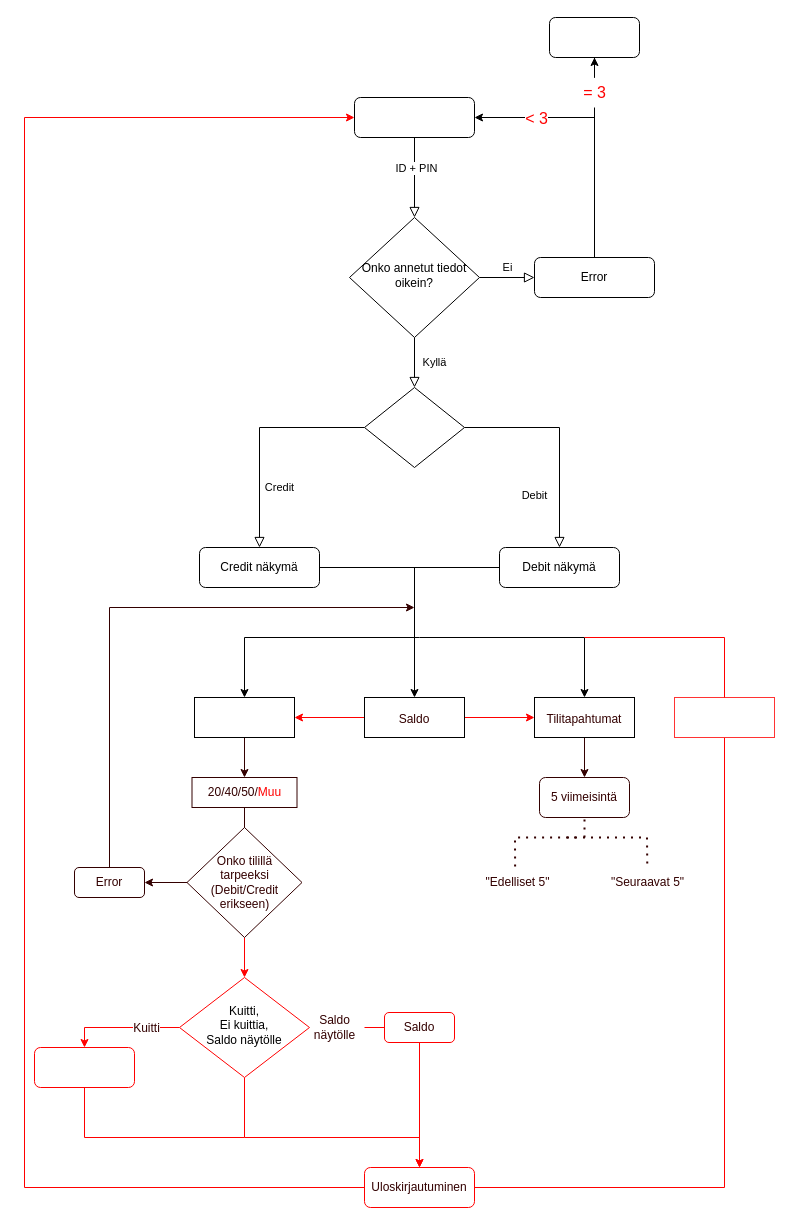
The diagram is 792 pixels wide and 1225 high, and some of its shapes have lost their labels. Each missing label, with the centre of its shape:
"Credit/Debit?" belongs at [414,427].
"Kirjaudu ulos" belongs at [724,717].
"Kirjautuminen" belongs at [414,117].
"Kuitti goes brr" belongs at [84,1067].
"Lukitus" belongs at [594,37].
"Nosto" belongs at [244,717].
